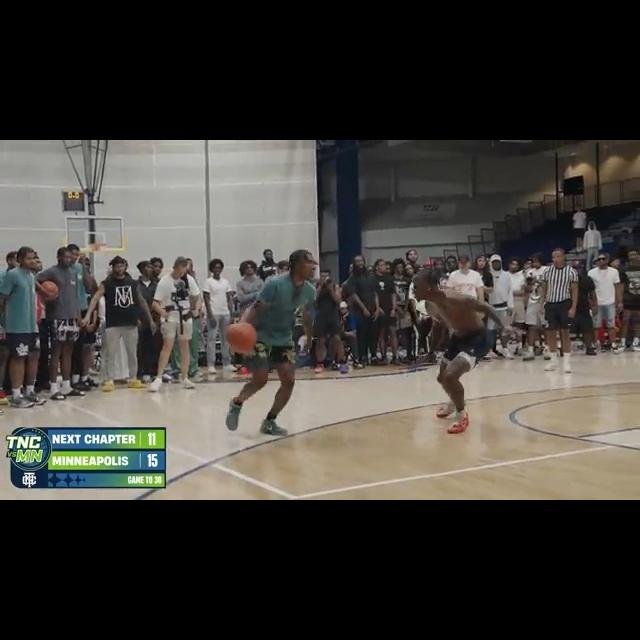basketball: (225, 320, 256, 351), (36, 276, 60, 300)
